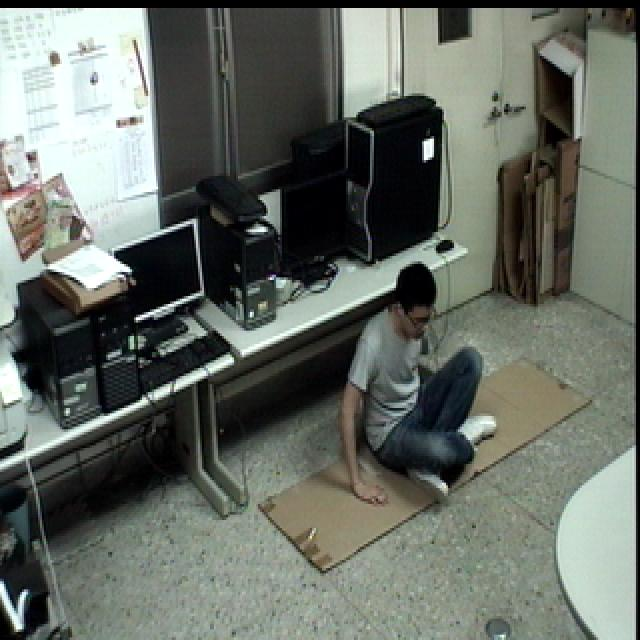sit: (336, 258, 500, 517)
